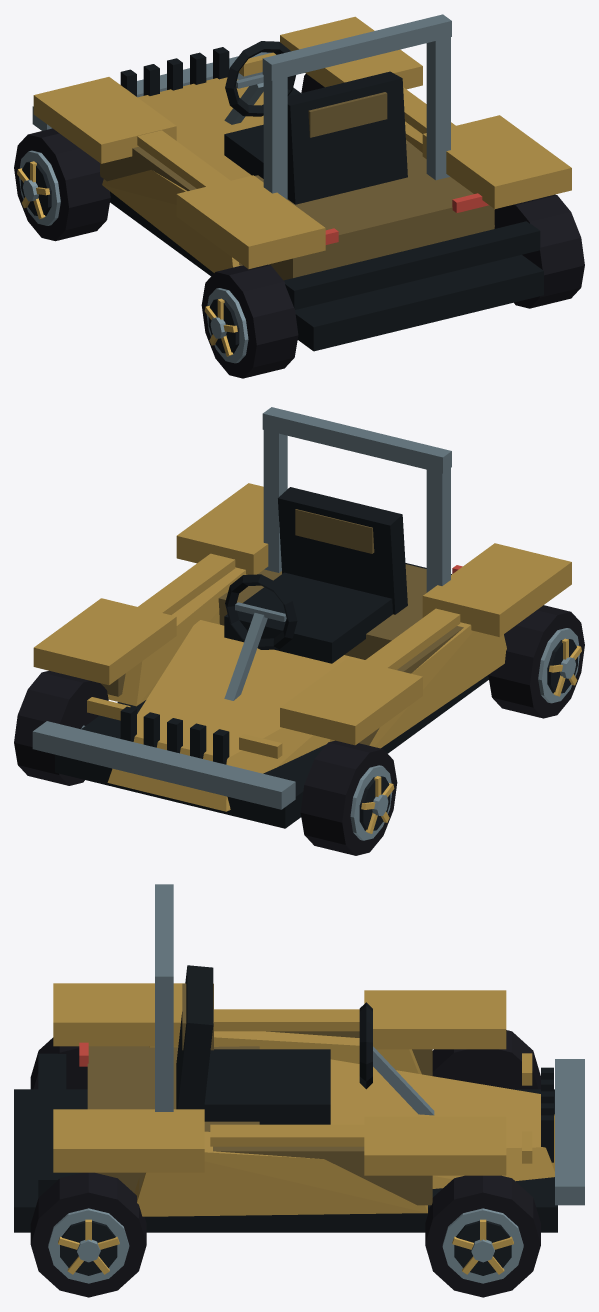
Rendered from kart.glb.
3 renders of one model, top to bottom at view 1: azimuth 30°, elevation 25°; view 2: azimuth 150°, elevation 25°; view 3: azimuth 270°, elevation 25°, orthographic. The views are drawn at different scales.
Parts seen in each view (by area): view 1: chassis, wheel-rear-left, wheel-front-left, wheel-rear-right; view 2: chassis, wheel-front-left, wheel-rear-left, wheel-front-right; view 3: chassis, wheel-rear-right, wheel-front-right, wheel-front-left, wheel-rear-left.
Boxes of the visible parts, <box> form: chassis: <box>32,14,571,351</box>; wheel-rear-left: <box>201,264,298,378</box>; wheel-front-left: <box>14,128,110,241</box>; wheel-rear-right: <box>494,194,584,308</box>; chassis: <box>32,407,571,828</box>; wheel-front-left: <box>300,740,397,855</box>; wheel-rear-left: <box>488,605,584,718</box>; wheel-front-right: <box>14,670,108,785</box>; chassis: <box>14,884,584,1232</box>; wheel-rear-right: <box>30,1172,146,1297</box>; wheel-front-right: <box>425,1175,540,1297</box>; wheel-front-left: <box>432,1030,540,1089</box>; wheel-rear-left: <box>30,1037,87,1089</box>.
Size of the model in its own units: 2.3 by 1.67 by 3.06.
